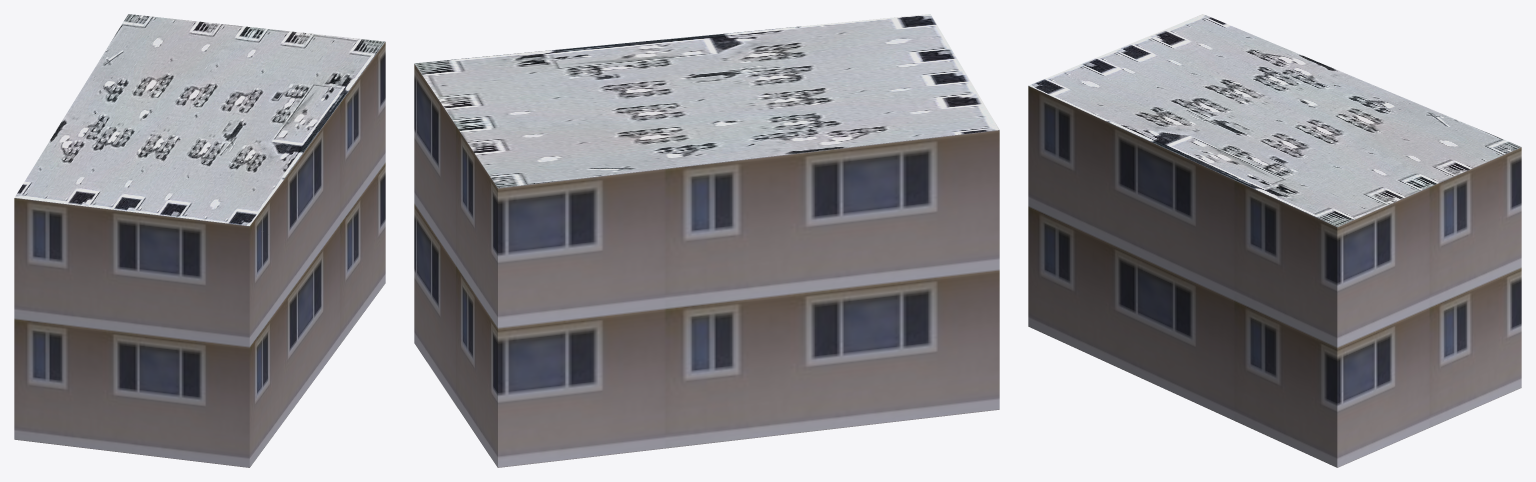
The model's file is ResTex__4183.fbx.
The picture shows the model from 3 angles, left to right: view 1: azimuth 30°, elevation 25°; view 2: azimuth 150°, elevation 25°; view 3: azimuth 270°, elevation 25°; orthographic projection. The views are drawn at different scales.
Visible parts, largest first — view 1: CityEngineMaterial_21_m, CityEngineMaterial_m; view 2: CityEngineMaterial_21_m, CityEngineMaterial_m; view 3: CityEngineMaterial_21_m, CityEngineMaterial_m.
Part boxes in pixels (left/top/right/bottom): CityEngineMaterial_21_m: left=14, top=42, right=385, bottom=467; CityEngineMaterial_m: left=14, top=14, right=385, bottom=225; CityEngineMaterial_21_m: left=414, top=64, right=999, bottom=467; CityEngineMaterial_m: left=414, top=14, right=999, bottom=187; CityEngineMaterial_21_m: left=1028, top=86, right=1521, bottom=467; CityEngineMaterial_m: left=1028, top=14, right=1520, bottom=226.
Size of the model in its own units: 11.38 by 6 by 11.14.
Materials: 2 (2 with a texture image).
